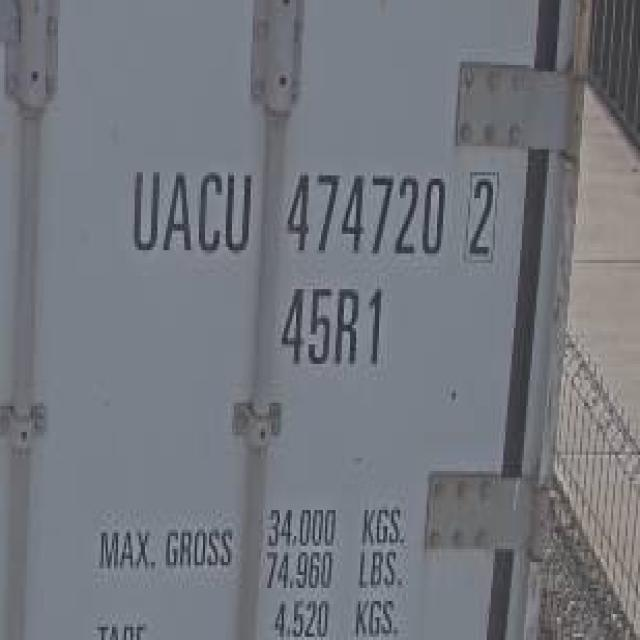dv: (463, 162, 502, 269)
owner: (118, 159, 256, 262)
serial: (278, 163, 446, 265)
size: (281, 272, 385, 373)
